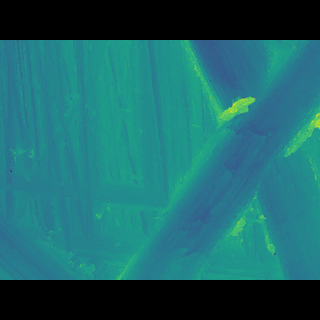Loch: (111, 75, 320, 250)
